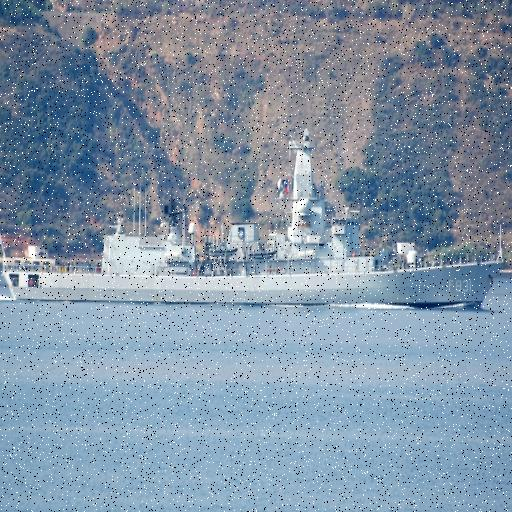Fragata: (1, 130, 509, 310)
